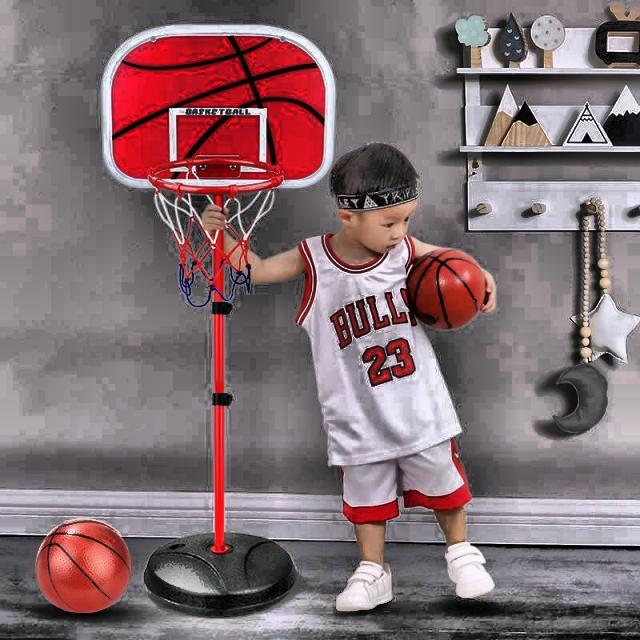board: (35, 519, 131, 613), (404, 250, 484, 329)
rim: (150, 158, 280, 302)
